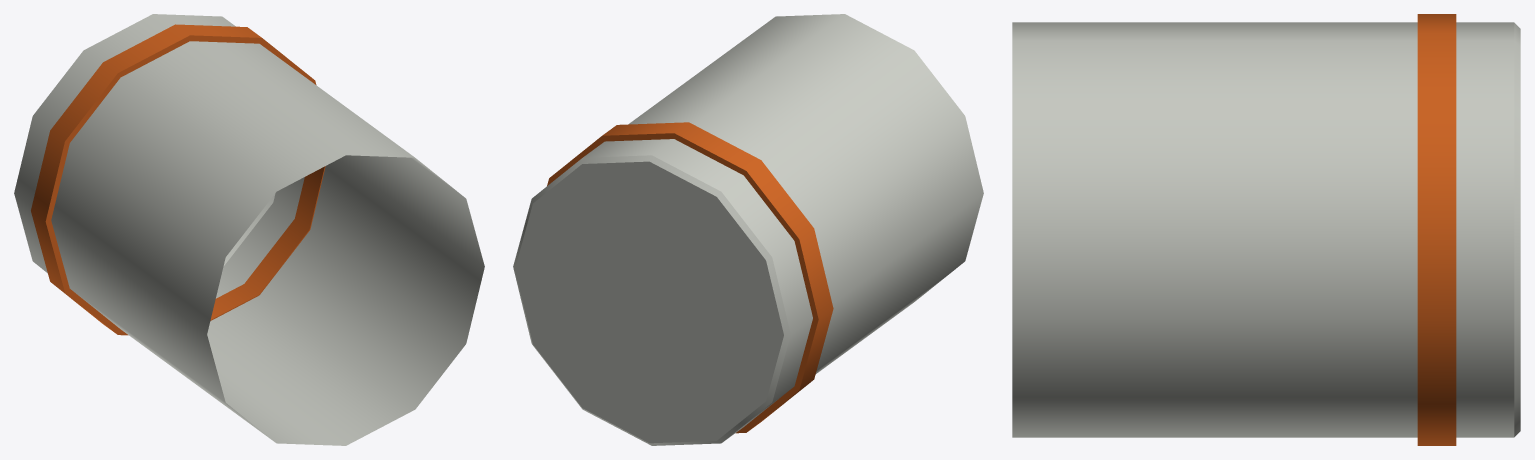
File: u73l_housing.obj
3 views of the same model, side by side, from view 1: azimuth 30°, elevation 25°; view 2: azimuth 150°, elevation 25°; view 3: azimuth 270°, elevation 25° (orthographic). The views are drawn at different scales.
Visible parts, largest first — view 1: u73l_housing; view 2: u73l_housing; view 3: u73l_housing.
Part boxes in pixels (x1,y1,x2,y2): u73l_housing: (14,14,484,445); u73l_housing: (513,14,983,445); u73l_housing: (1012,14,1520,445).
Bounding box in the file's own units: 3.37 × 3.37 × 3.95.
